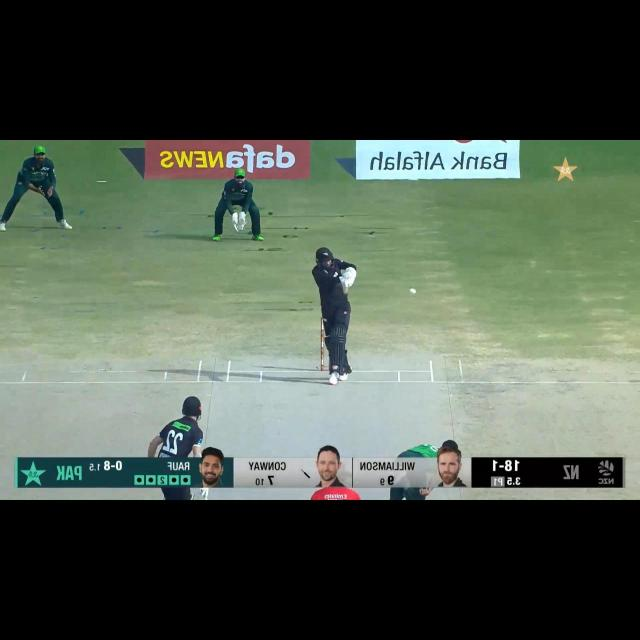toe: (342, 283, 349, 295)
